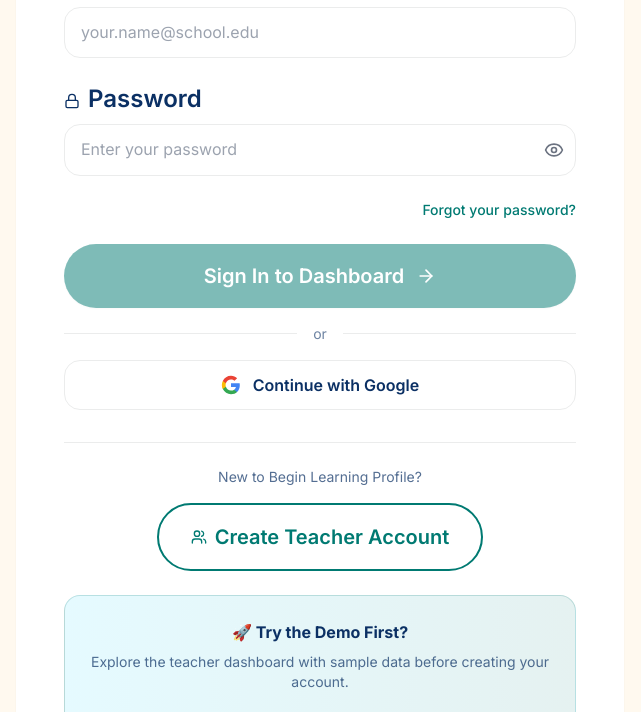
Test case: Teacher Login Page › Additional Actions › should show Google Sign-In coming soon message
The image size is (641, 712).
(page scrolled)
Click the button "Continue with Google" at (320, 384), box [64, 360, 576, 410]
(page scrolled)
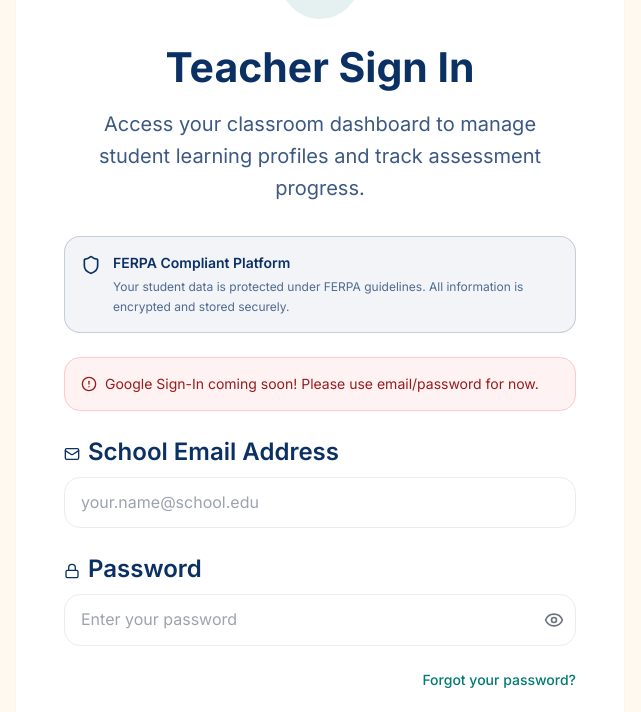
expect the text "Google Sign-In coming soon! Please use email/password for now." is shown: met, box [105, 374, 539, 394]
